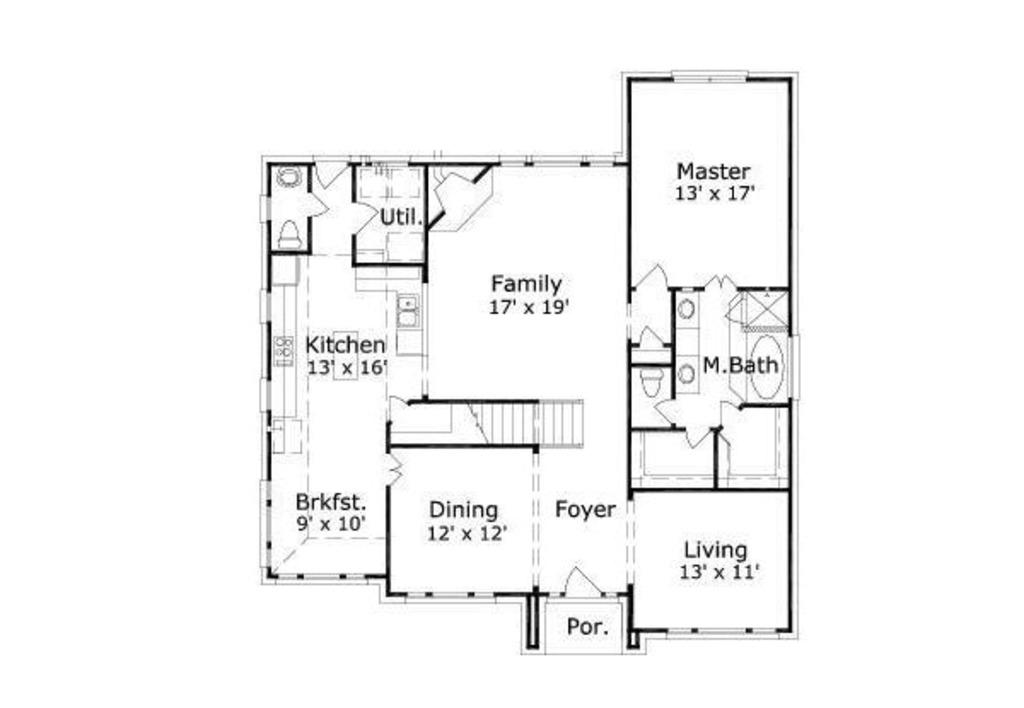door: (564, 563, 609, 599), (307, 159, 349, 191), (628, 261, 670, 291), (344, 198, 377, 235), (300, 190, 334, 218), (700, 275, 743, 294), (384, 391, 411, 420), (651, 397, 677, 427), (386, 451, 406, 486), (683, 429, 713, 450), (721, 397, 741, 424)
large_sink: (633, 366, 667, 400), (273, 221, 307, 249)
small_sink: (676, 358, 706, 397), (674, 291, 700, 333), (271, 164, 308, 188)
stairs: (424, 402, 594, 452)
tub: (736, 331, 787, 404)
twin_sink: (390, 293, 430, 334)
window: (665, 623, 784, 640), (403, 591, 497, 607), (670, 71, 749, 86), (276, 571, 369, 582), (785, 336, 800, 399)
